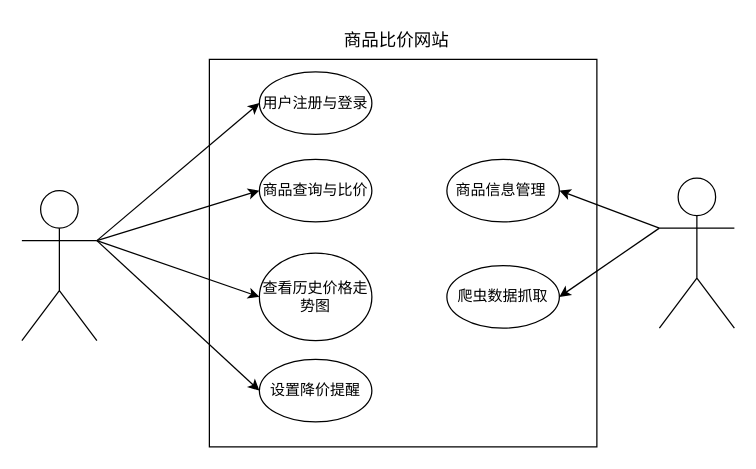
This 756x469 diagram has some shape labels left out. Here are the shapes that lost their labels. From the top down, the centre of each, then its label:
At point 59,265: "用户".
At point 696,252: "管理员".
